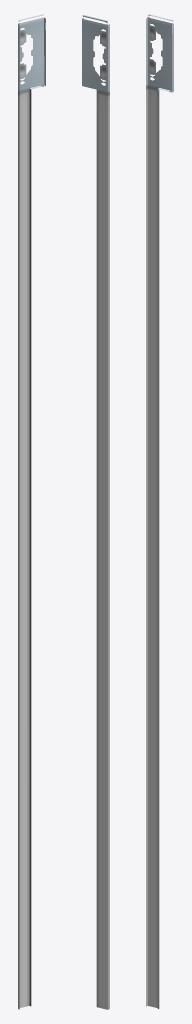
Rendered from Glass_small_Plane.FBX.
3 views of the same model, side by side, from view 1: azimuth 30°, elevation 25°; view 2: azimuth 150°, elevation 25°; view 3: azimuth 330°, elevation 25° (orthographic).
Parts seen in each view (by area): view 1: Plane241; view 2: Plane241; view 3: Plane241.
Boxes of the visible parts, x1,y1,x2,y2 form: Plane241: [18, 14, 45, 1009]; Plane241: [82, 14, 109, 1009]; Plane241: [146, 14, 173, 1009].
Bounding box in the file's own units: 0.0445 × 1.6 × 0.00524.
